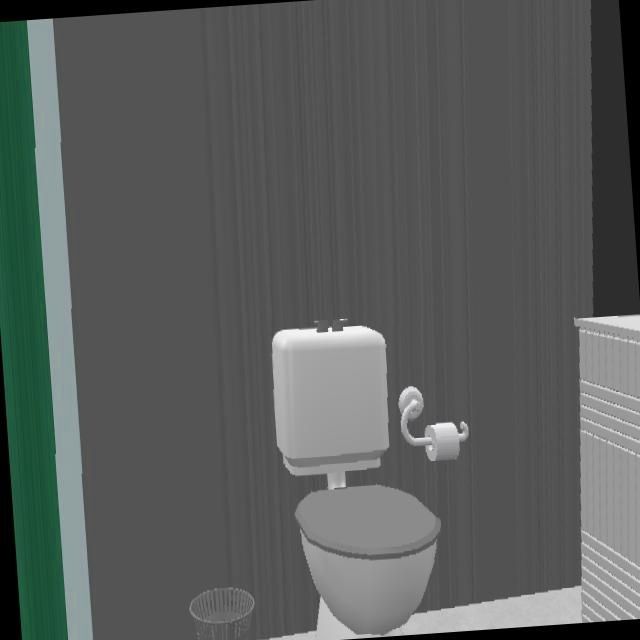toilet: (273, 325, 439, 633)
